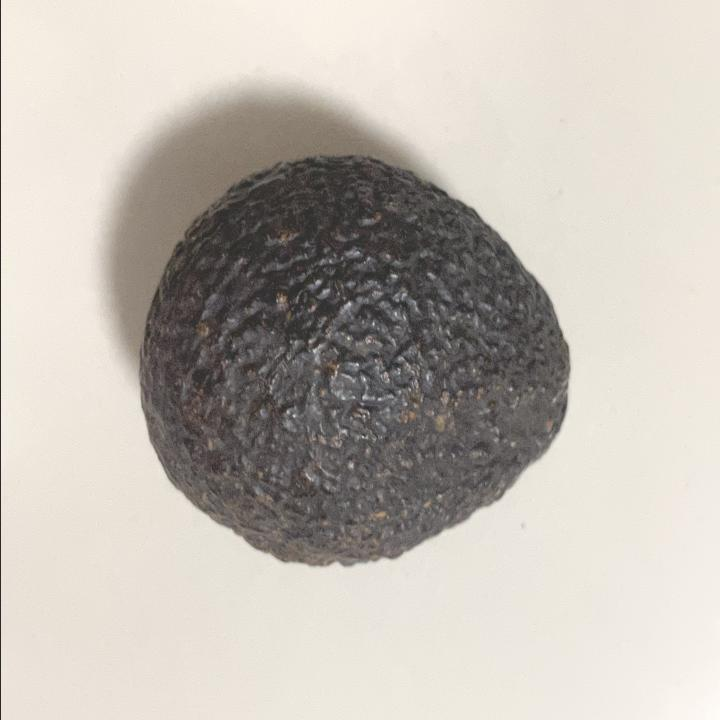Level2: (131, 146, 579, 576)
